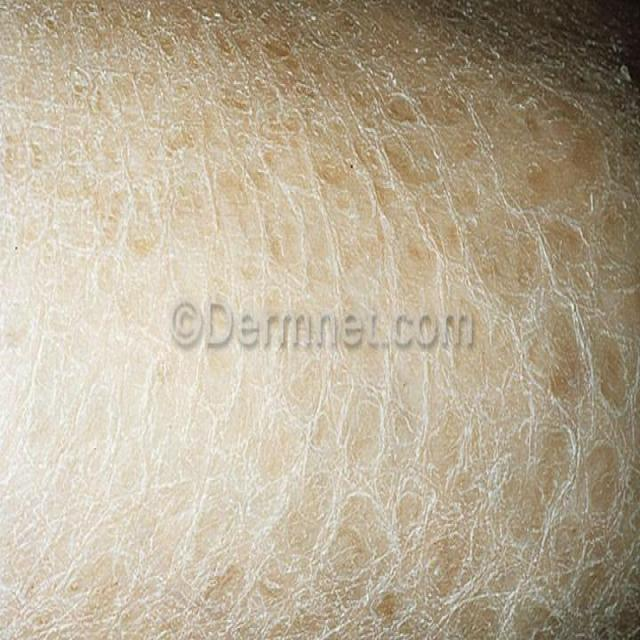Eczema: (13, 17, 595, 640)
